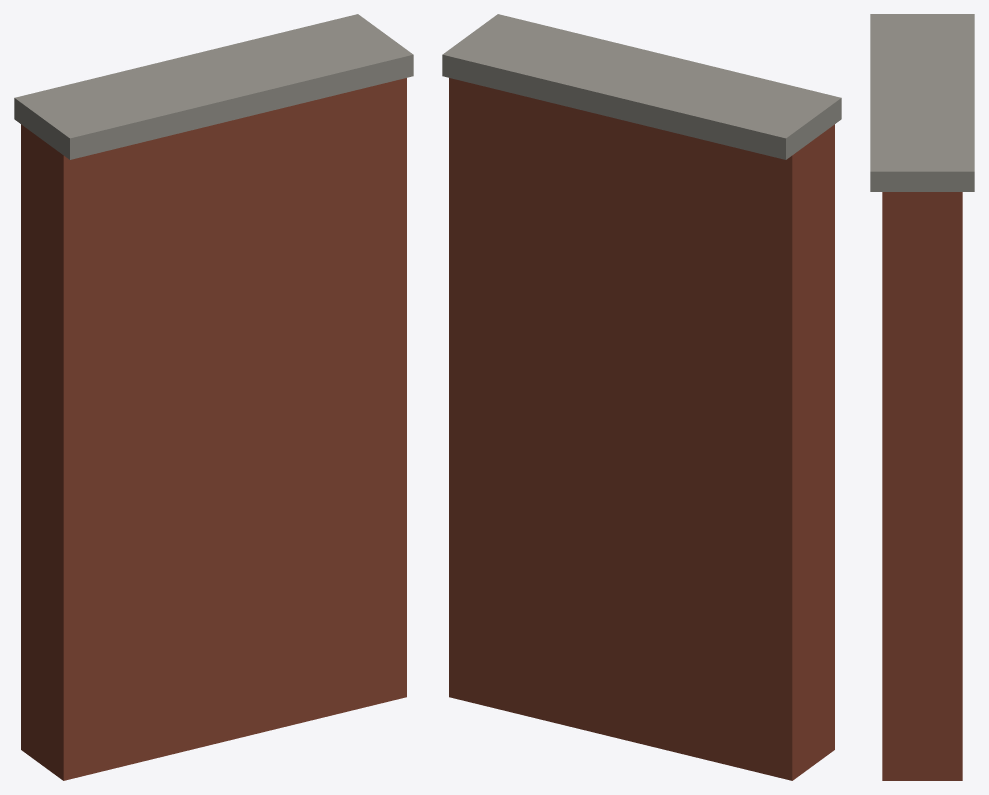
Rendered from boundary.brick_wall.h1800.glb.
3 renders of one model, left to right at view 1: azimuth 30°, elevation 25°; view 2: azimuth 150°, elevation 25°; view 3: azimuth 270°, elevation 25°, orthographic. The views are drawn at different scales.
Visible parts, largest first — view 1: main__brick, main__concrete; view 2: main__brick, main__concrete; view 3: main__brick, main__concrete.
Part boxes in pixels (box(x1,y1,x2,y2)): main__brick: box(21, 78, 406, 780); main__concrete: box(14, 14, 413, 159); main__brick: box(449, 78, 834, 780); main__concrete: box(442, 14, 841, 159); main__brick: box(882, 192, 962, 780); main__concrete: box(870, 14, 974, 191).
Bounding box in the file's own units: 1 × 1.8 × 0.28.
